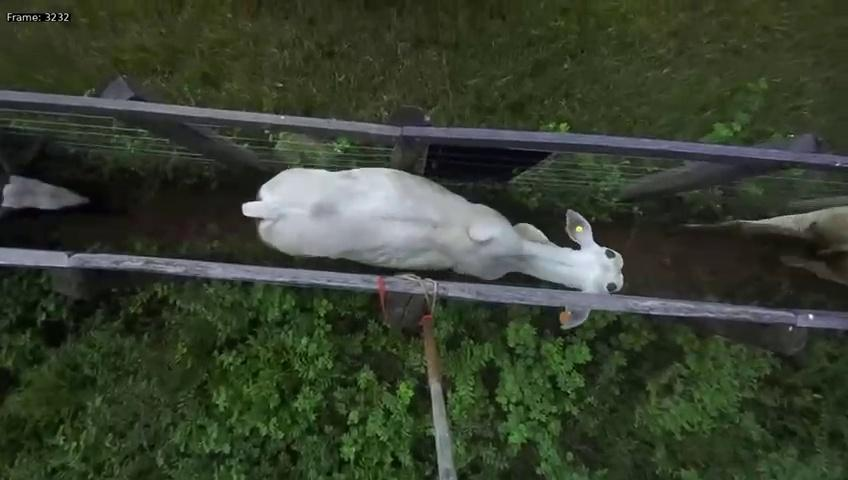cattle: (235, 154, 629, 332)
